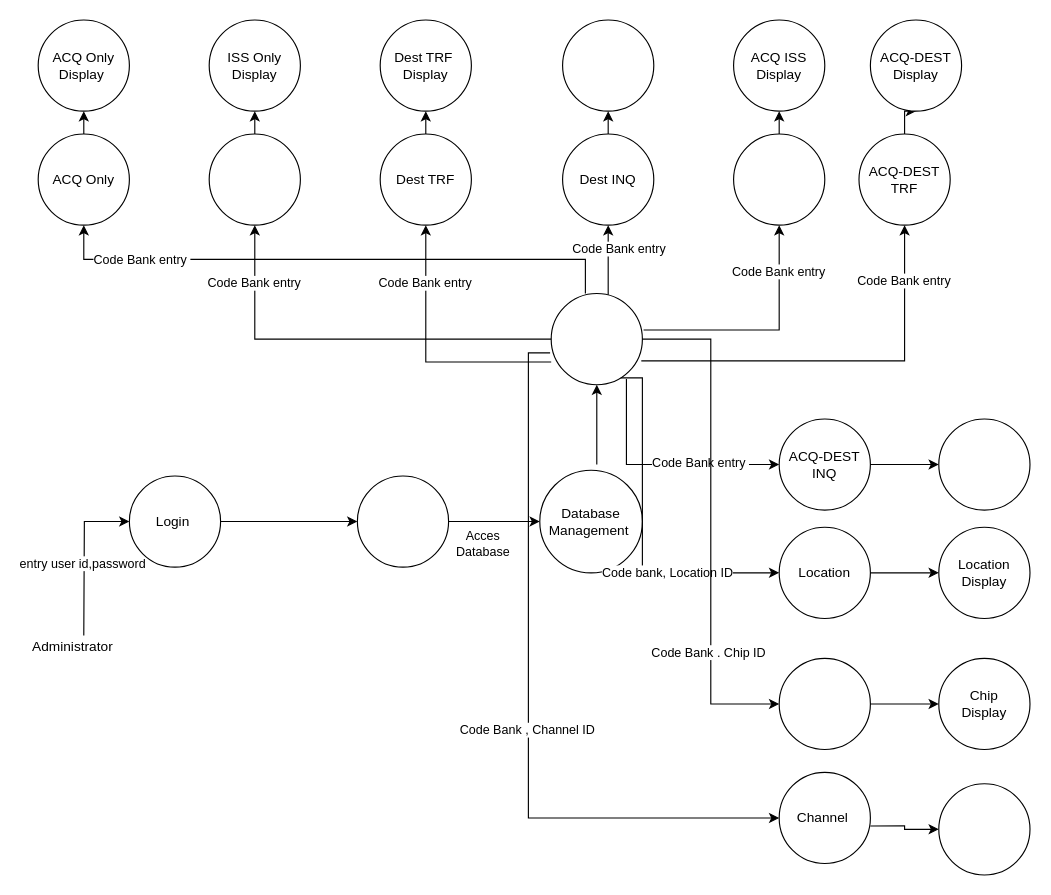
Some shapes in this 1051 by 895 pixel diagram are drawn without their labels. Here are the shapes that lost their labels. From the top down, the centre of each, then its label:
At (607,65): "Dest INQ Display".
At (254,179): "ISS Only".
At (778,179): "ACQ-ISS".
At (596,338): "Filter data".
At (984,464): "ACQ-DEST INQ Display".
At (402,521): "Pilih tanggal monitoring".
At (824,703): "Chip".
At (984,829): "Channel Display".
